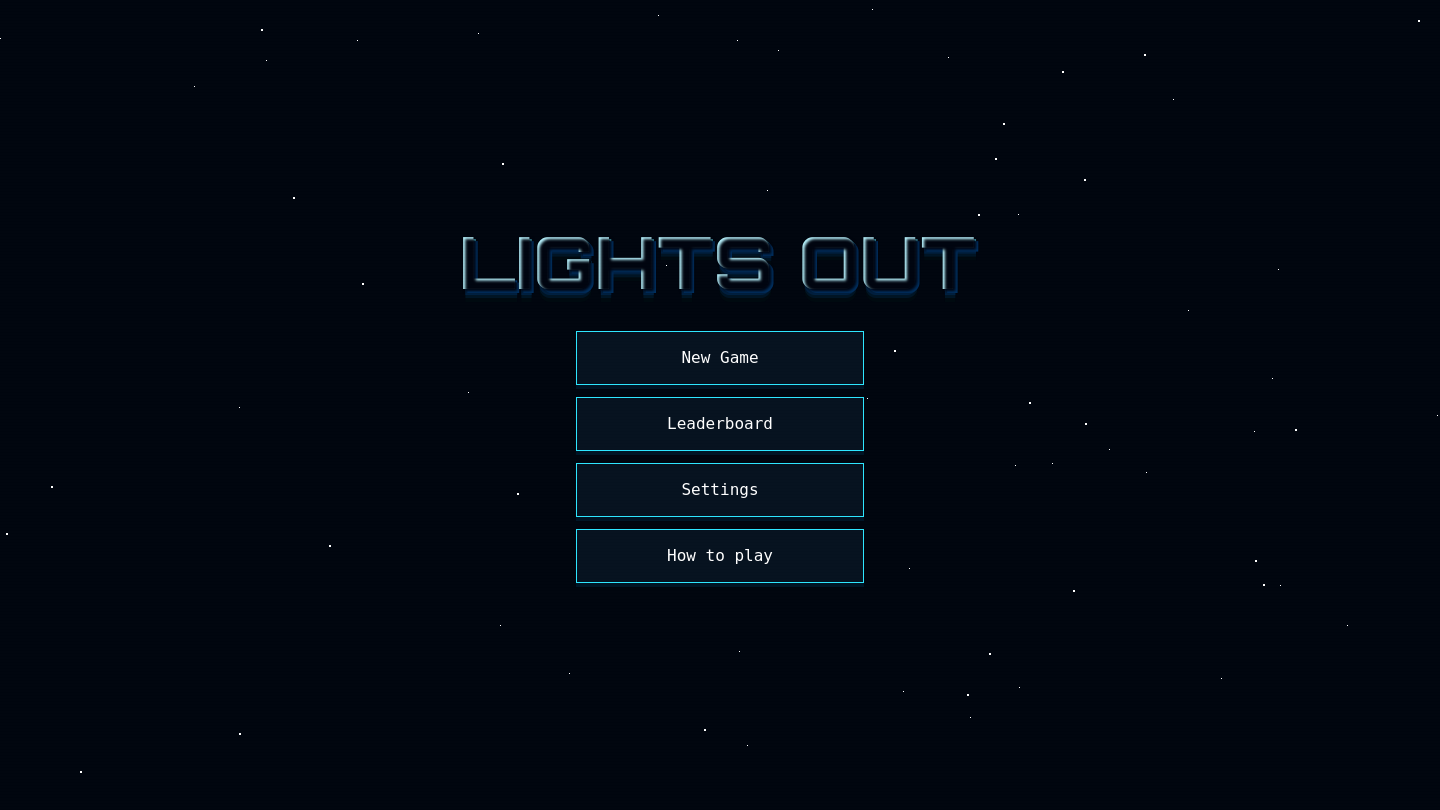
Scenario: App › returns focus to the How to play button when the help dialog closes
Click the button "How to play" at (720, 556), box [576,529,864,583]
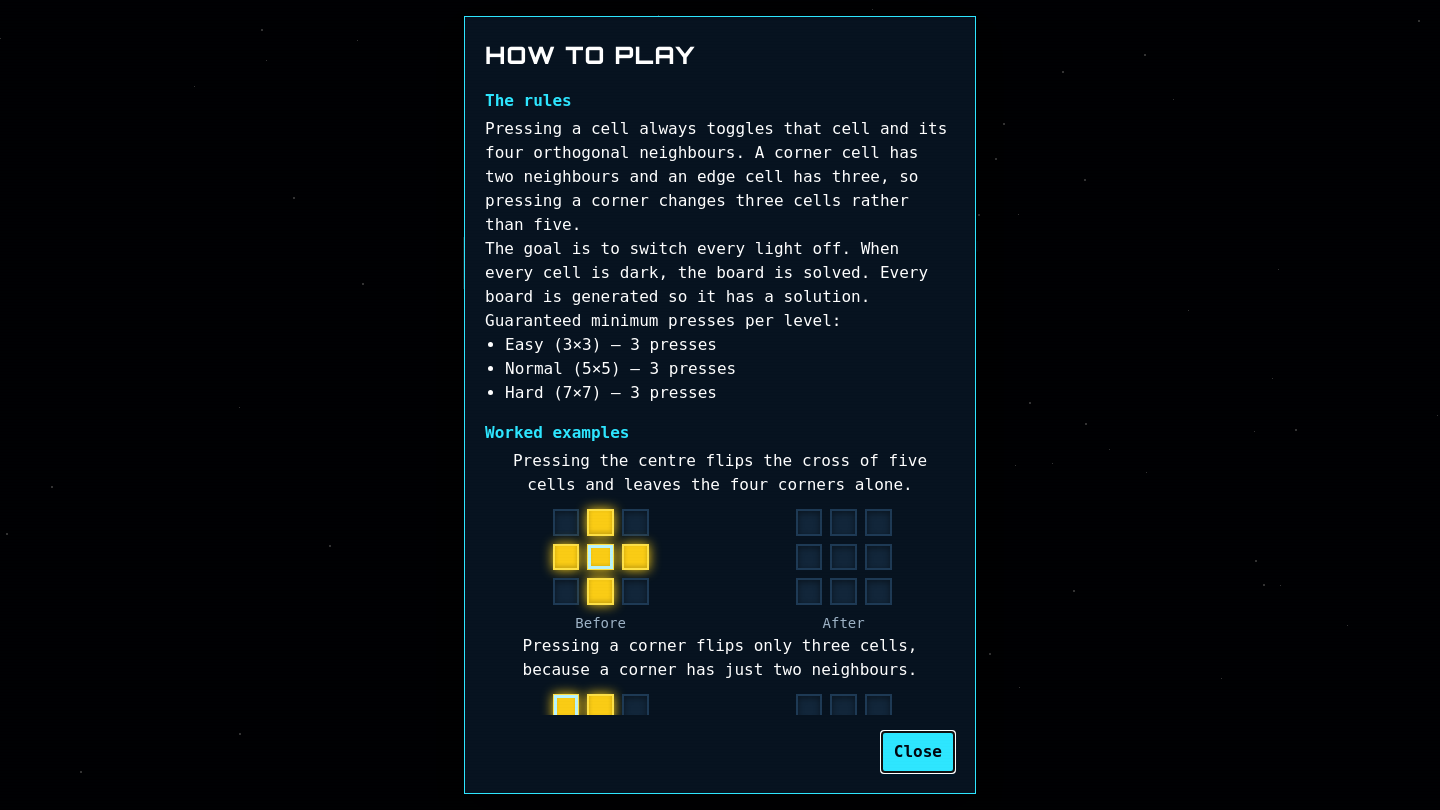
Click the button "Close" at (918, 752), box [881,731,955,773]
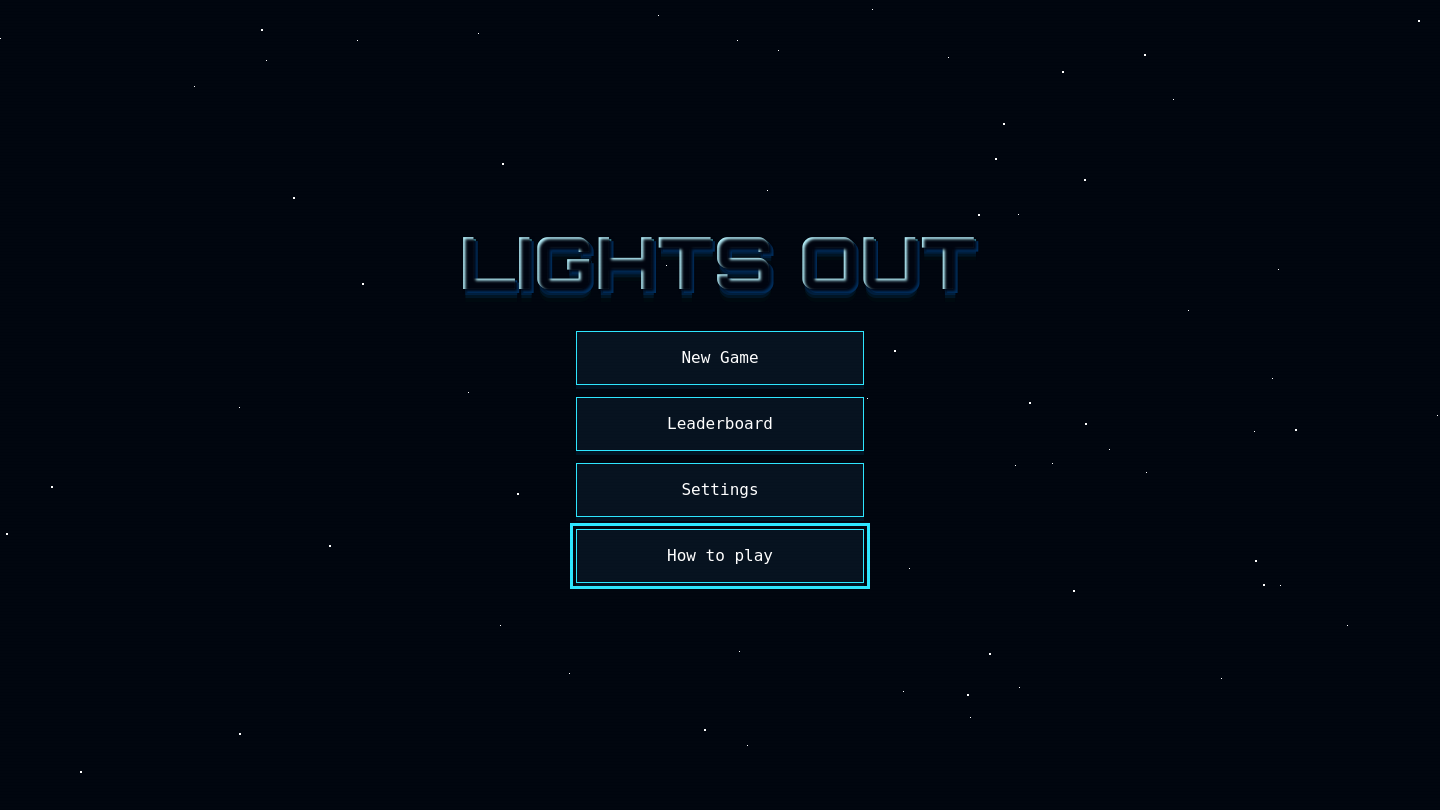
Expected: the dialog is gone
